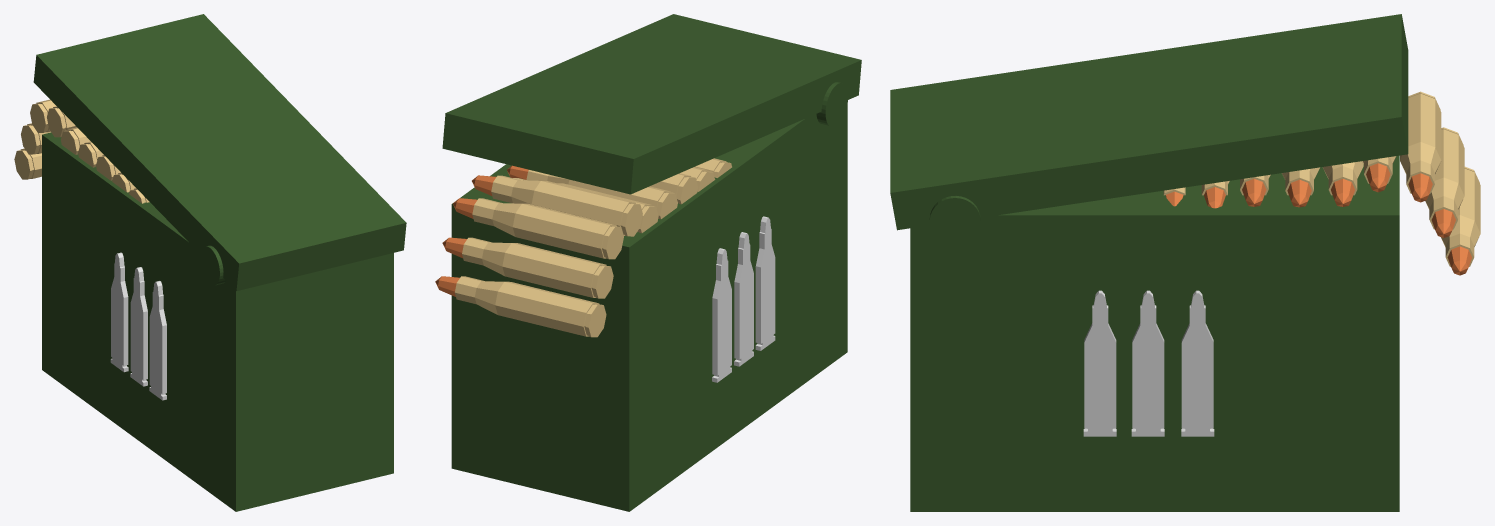
File: Ammo.fbx
The picture shows the model from 3 angles, left to right: view 1: azimuth 30°, elevation 25°; view 2: azimuth 150°, elevation 25°; view 3: azimuth 270°, elevation 25°; orthographic projection. The views are drawn at different scales.
Visible parts, largest first — view 1: Ammo; view 2: Ammo; view 3: Ammo.
Part boxes in pixels (x1,y1,x2,y2): Ammo: [14, 14, 406, 511]; Ammo: [435, 14, 861, 511]; Ammo: [890, 14, 1480, 511].
Bounding box in the file's own units: 26.11 × 45.12 × 60.67.
